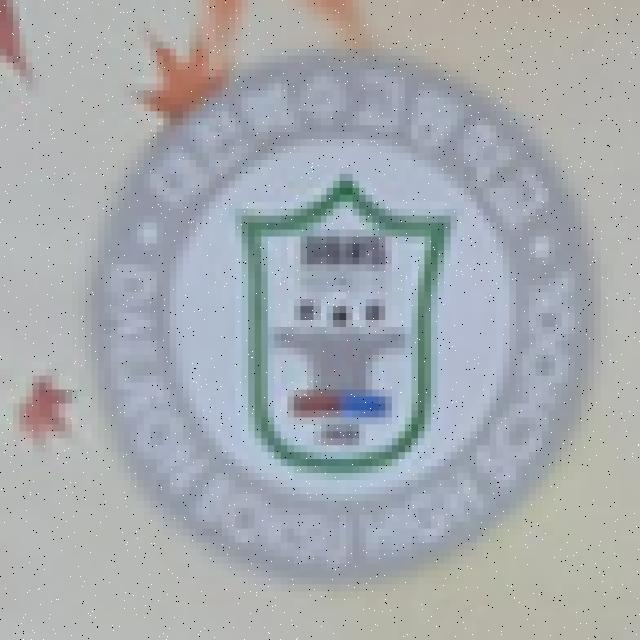logo: (85, 41, 616, 588)
